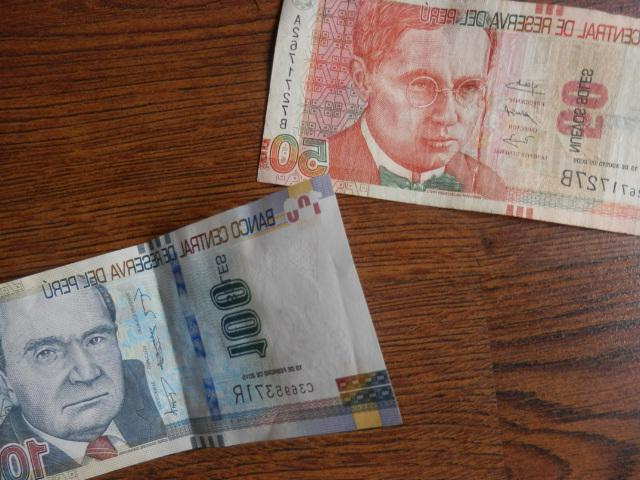B100: (2, 177, 403, 479)
B50: (254, 1, 634, 190)
